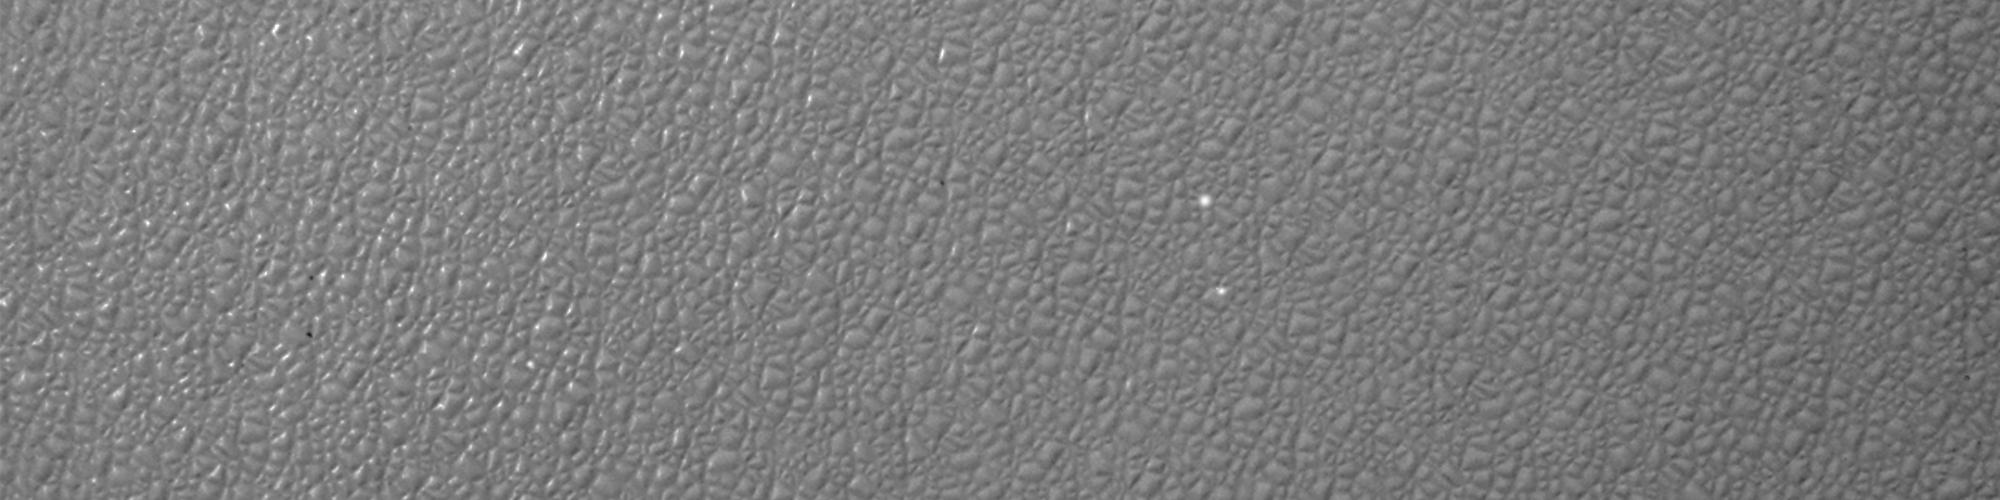Particles: (1193, 187, 1219, 214), (1212, 282, 1230, 301)
